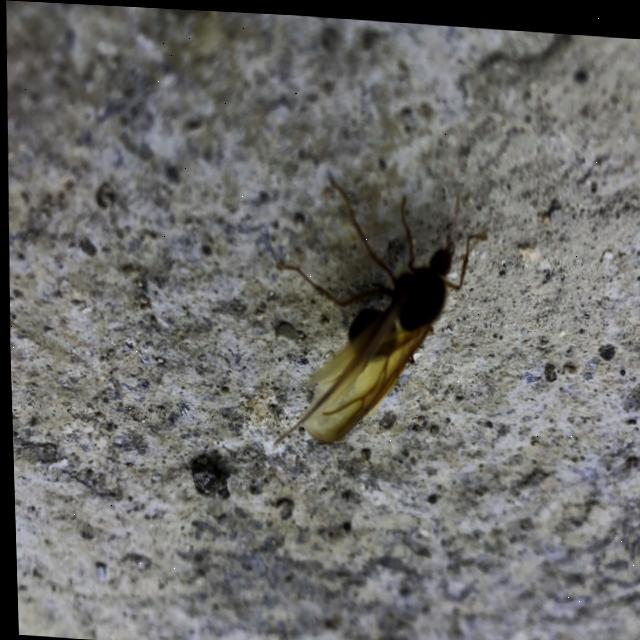Alive-Male-Alate: (264, 169, 492, 457)
